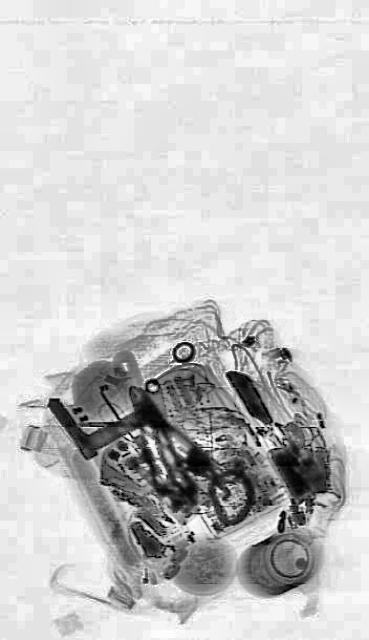Pliers: (110, 359, 218, 531)
Wrench: (141, 372, 191, 514)
